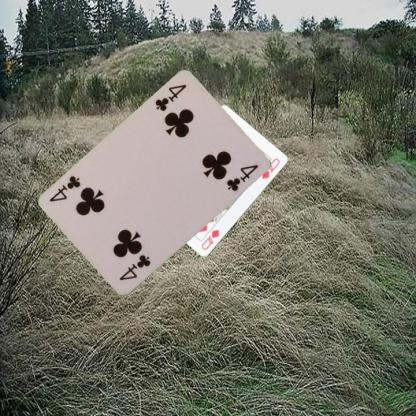4c: (152, 82, 188, 113), (116, 252, 152, 282)
Qd: (198, 227, 221, 251)
